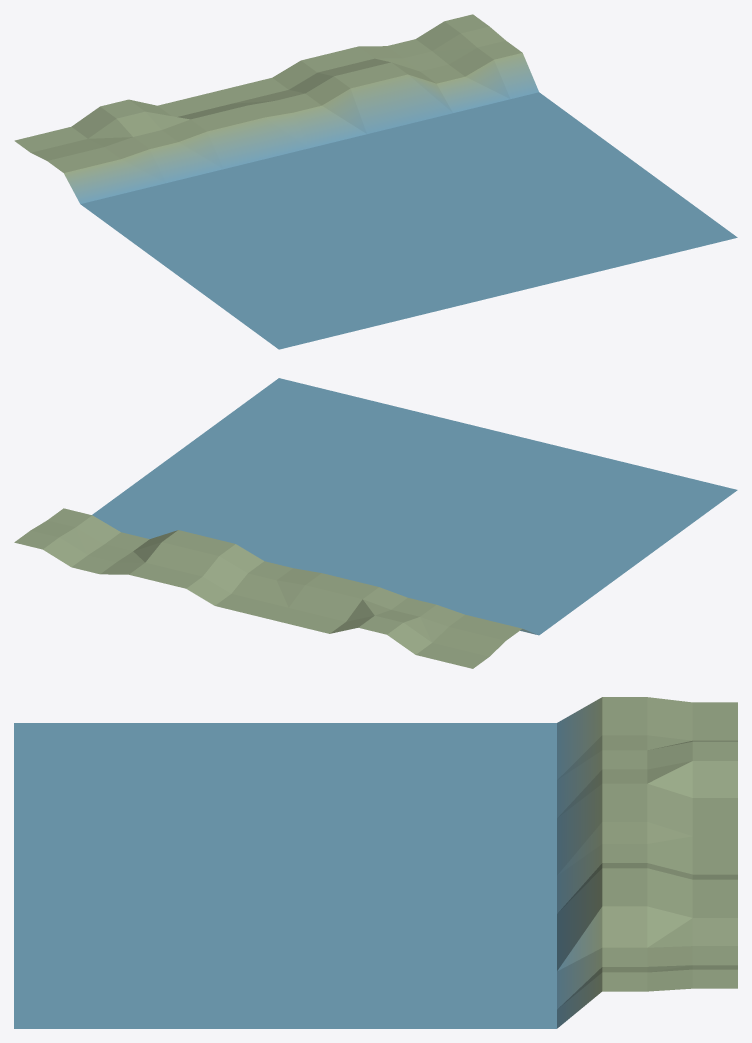
3 views of the same model, one above another, from view 1: azimuth 30°, elevation 25°; view 2: azimuth 150°, elevation 25°; view 3: azimuth 270°, elevation 25° (orthographic). The views are drawn at different scales.
Bounding box in the file's own units: 32 × 2.24 × 32.
